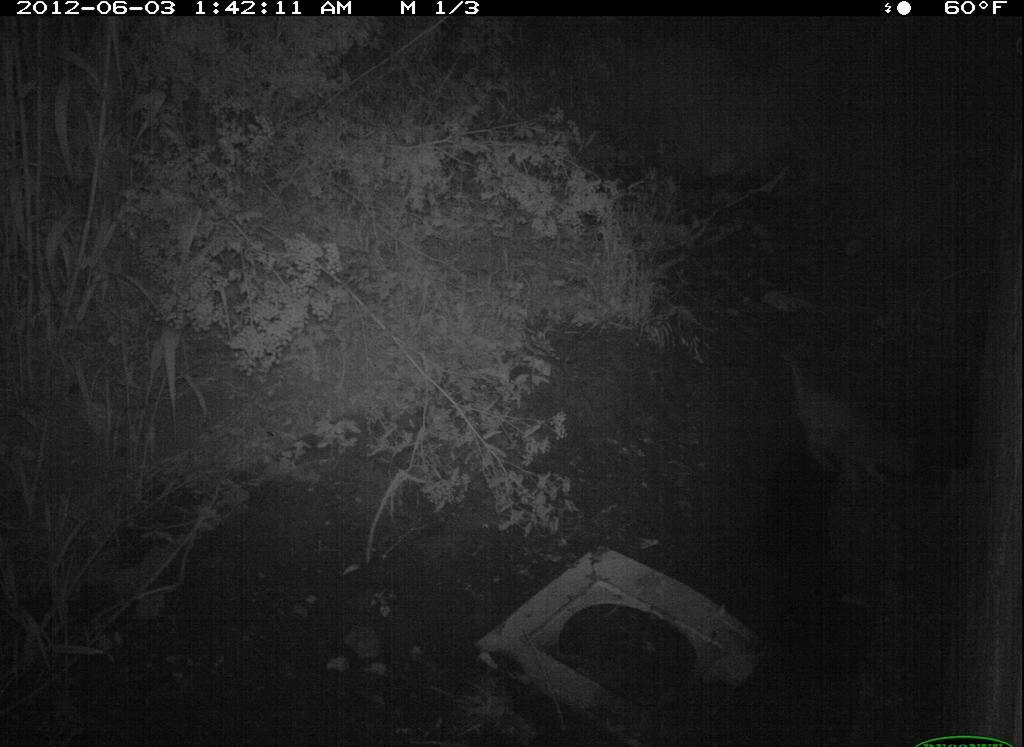cat: (769, 333, 932, 496)
